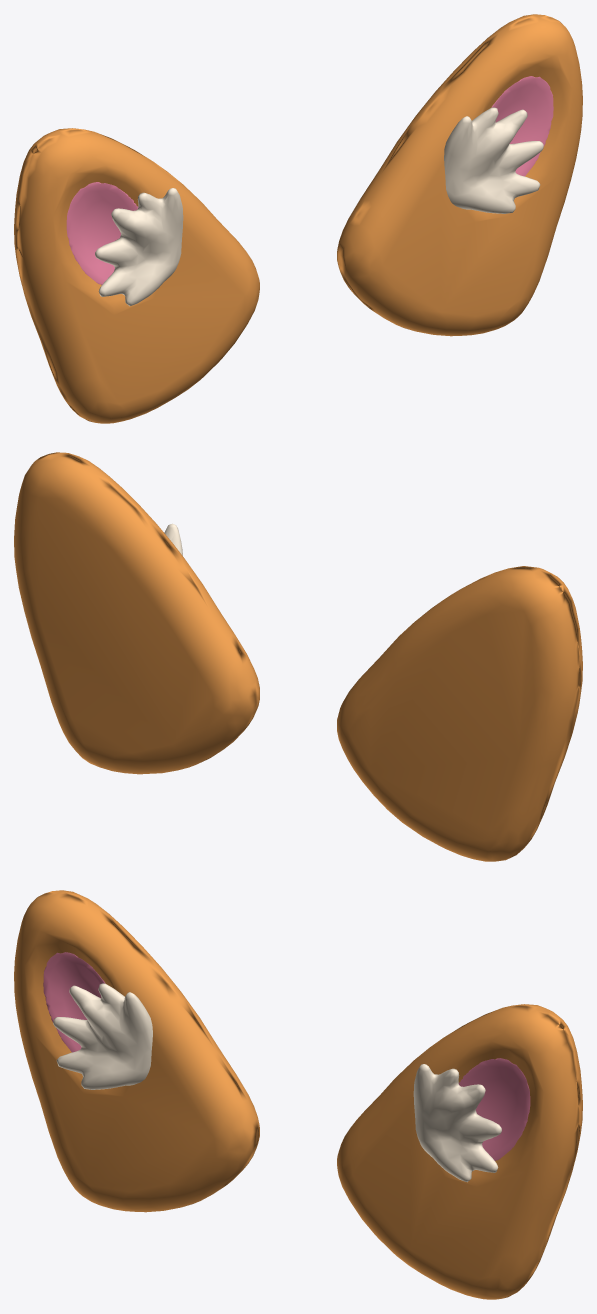
Rendered from cat-ears.glb.
The picture shows the model from 3 angles, top to bottom: view 1: azimuth 30°, elevation 25°; view 2: azimuth 150°, elevation 25°; view 3: azimuth 330°, elevation 25°; orthographic projection.
Parts seen in each view (by area): view 1: cat_ears, cat_ears_tuft, cat_ears_lining; view 2: cat_ears; view 3: cat_ears, cat_ears_tuft, cat_ears_lining.
Part boxes in pixels (x1=…): cat_ears: x1=14, y1=14, x2=582, y2=423; cat_ears_tuft: x1=95, y1=107, x2=543, y2=306; cat_ears_lining: x1=66, y1=76, x2=553, y2=284; cat_ears: x1=14, y1=452, x2=582, y2=861; cat_ears: x1=14, y1=890, x2=582, y2=1299; cat_ears_tuft: x1=53, y1=983, x2=501, y2=1182; cat_ears_lining: x1=43, y1=952, x2=530, y2=1160.
Bounding box in the file's own units: 1.39 × 0.7135 × 0.1751.
